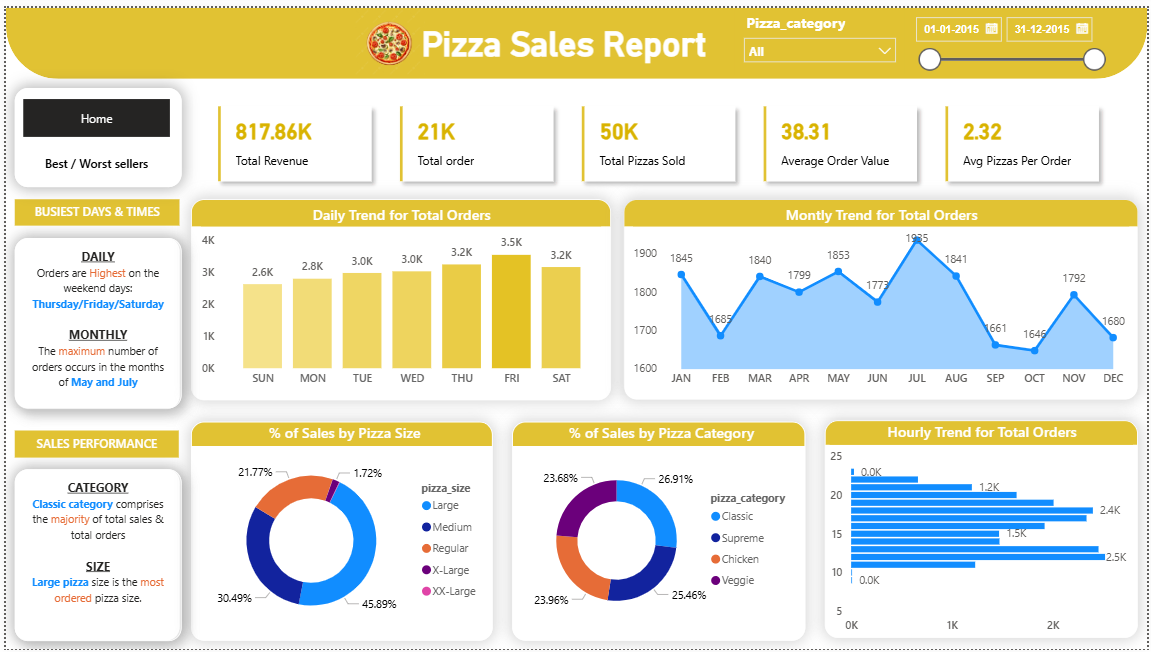

The page's visual inventory and layout, read from the dashboard file:
{"tool":"powerbi","page":{"name":"Home","canvas":[1280,720],"ordinal":0},"visuals":[{"type":"cardVisual","fields":{"Data":["public pizza_sales.Total Revenue","public pizza_sales.Total order","public pizza_sales.Total Pizzas Sold","public pizza_sales.Average Order Value","public pizza_sales.Avg Pizzas Per Order"]},"box":[207.1,80,1050,144.3],"z":0},{"type":"shape","box":[0,0,1280.3,79.6],"z":1000},{"type":"textbox","box":[461.1,12.3,356.8,54.9],"z":2000},{"type":"donutChart","title":"% of Sales by Pizza Size","fields":{"Category":["public pizza_sales.pizza_size"],"Y":["Sum(public pizza_sales.total_price)"]},"box":[207.1,464.3,338.6,245.7],"z":3000},{"type":"donutChart","title":"% of Sales by Pizza Category","fields":{"Y":["Sum(public pizza_sales.total_price)"],"Category":["public pizza_sales.pizza_category"]},"box":[568.6,464.3,328.6,245.7],"z":4000},{"type":"columnChart","title":"Daily Trend for Total Orders","fields":{"Category":["public pizza_sales.Sales_by_day"],"Y":["public pizza_sales.Total order"]},"box":[207.5,214.5,471.2,225.8],"z":5000},{"type":"shape","box":[9.8,258,185.1,192.1],"z":6000},{"type":"areaChart","title":"Montly Trend for Total Orders","fields":{"Category":["public pizza_sales.Sales_by_months"],"Y":["public pizza_sales.Total order"]},"box":[692.7,214.5,577.7,225.8],"z":7000},{"type":"clusteredBarChart","title":"Hourly Trend for Total Orders","fields":{"Category":["public pizza_sales.Hour"],"Y":["public pizza_sales.Total order"]},"box":[918.6,462.9,351.4,244.3],"z":8000},{"type":"textbox","box":[10,258.6,187.1,191.4],"z":9000},{"type":"textbox","box":[9.8,214.5,185.1,29.4],"z":10000},{"type":"shape","box":[9.8,517.4,185.1,192.1],"z":11000},{"type":"textbox","box":[10,517.1,187.1,192.9],"z":12000},{"type":"textbox","box":[10,474.3,184.3,30],"z":13000},{"type":"shape","box":[10,90,187.1,111.4],"z":14000},{"type":"pageNavigator","box":[20,102.9,164.3,42.9],"z":15000},{"type":"pageNavigator","box":[20,152.9,164.3,42.9],"z":16000},{"type":"slicer","fields":{"Values":["public pizza_sales.pizza_category"]},"box":[817.5,0,190.7,74.3],"z":17000},{"type":"image","box":[291.4,0,277.1,80],"z":19000},{"type":"slicer","fields":{"Values":["public pizza_sales.order_date"]},"box":[1008.2,0,234.2,74.3],"z":19001}]}

Visuals, with their boxes in screenshot pixels (x1, y1, x2, y2), scaled from the page's 1280x720 canvas onto the 1151x652 screenshot:
cardVisual - public pizza_sales.Total Revenue x public pizza_sales.Total order: 186, 72, 1130, 203
shape: 0, 0, 1150, 72
textbox: 415, 11, 735, 61
"% of Sales by Pizza Size" donutChart: 186, 420, 491, 643
"% of Sales by Pizza Category" donutChart: 511, 420, 807, 643
"Daily Trend for Total Orders" columnChart: 187, 194, 610, 399
shape: 9, 234, 175, 408
"Montly Trend for Total Orders" areaChart: 623, 194, 1142, 399
"Hourly Trend for Total Orders" clusteredBarChart: 826, 419, 1142, 640
textbox: 9, 234, 177, 408
textbox: 9, 194, 175, 221
shape: 9, 469, 175, 642
textbox: 9, 468, 177, 643
textbox: 9, 430, 175, 457
shape: 9, 82, 177, 182
pageNavigator: 18, 93, 166, 132
pageNavigator: 18, 138, 166, 177
slicer - public pizza_sales.pizza_category: 735, 0, 907, 67
image: 262, 0, 511, 72
slicer - public pizza_sales.order_date: 907, 0, 1117, 67
